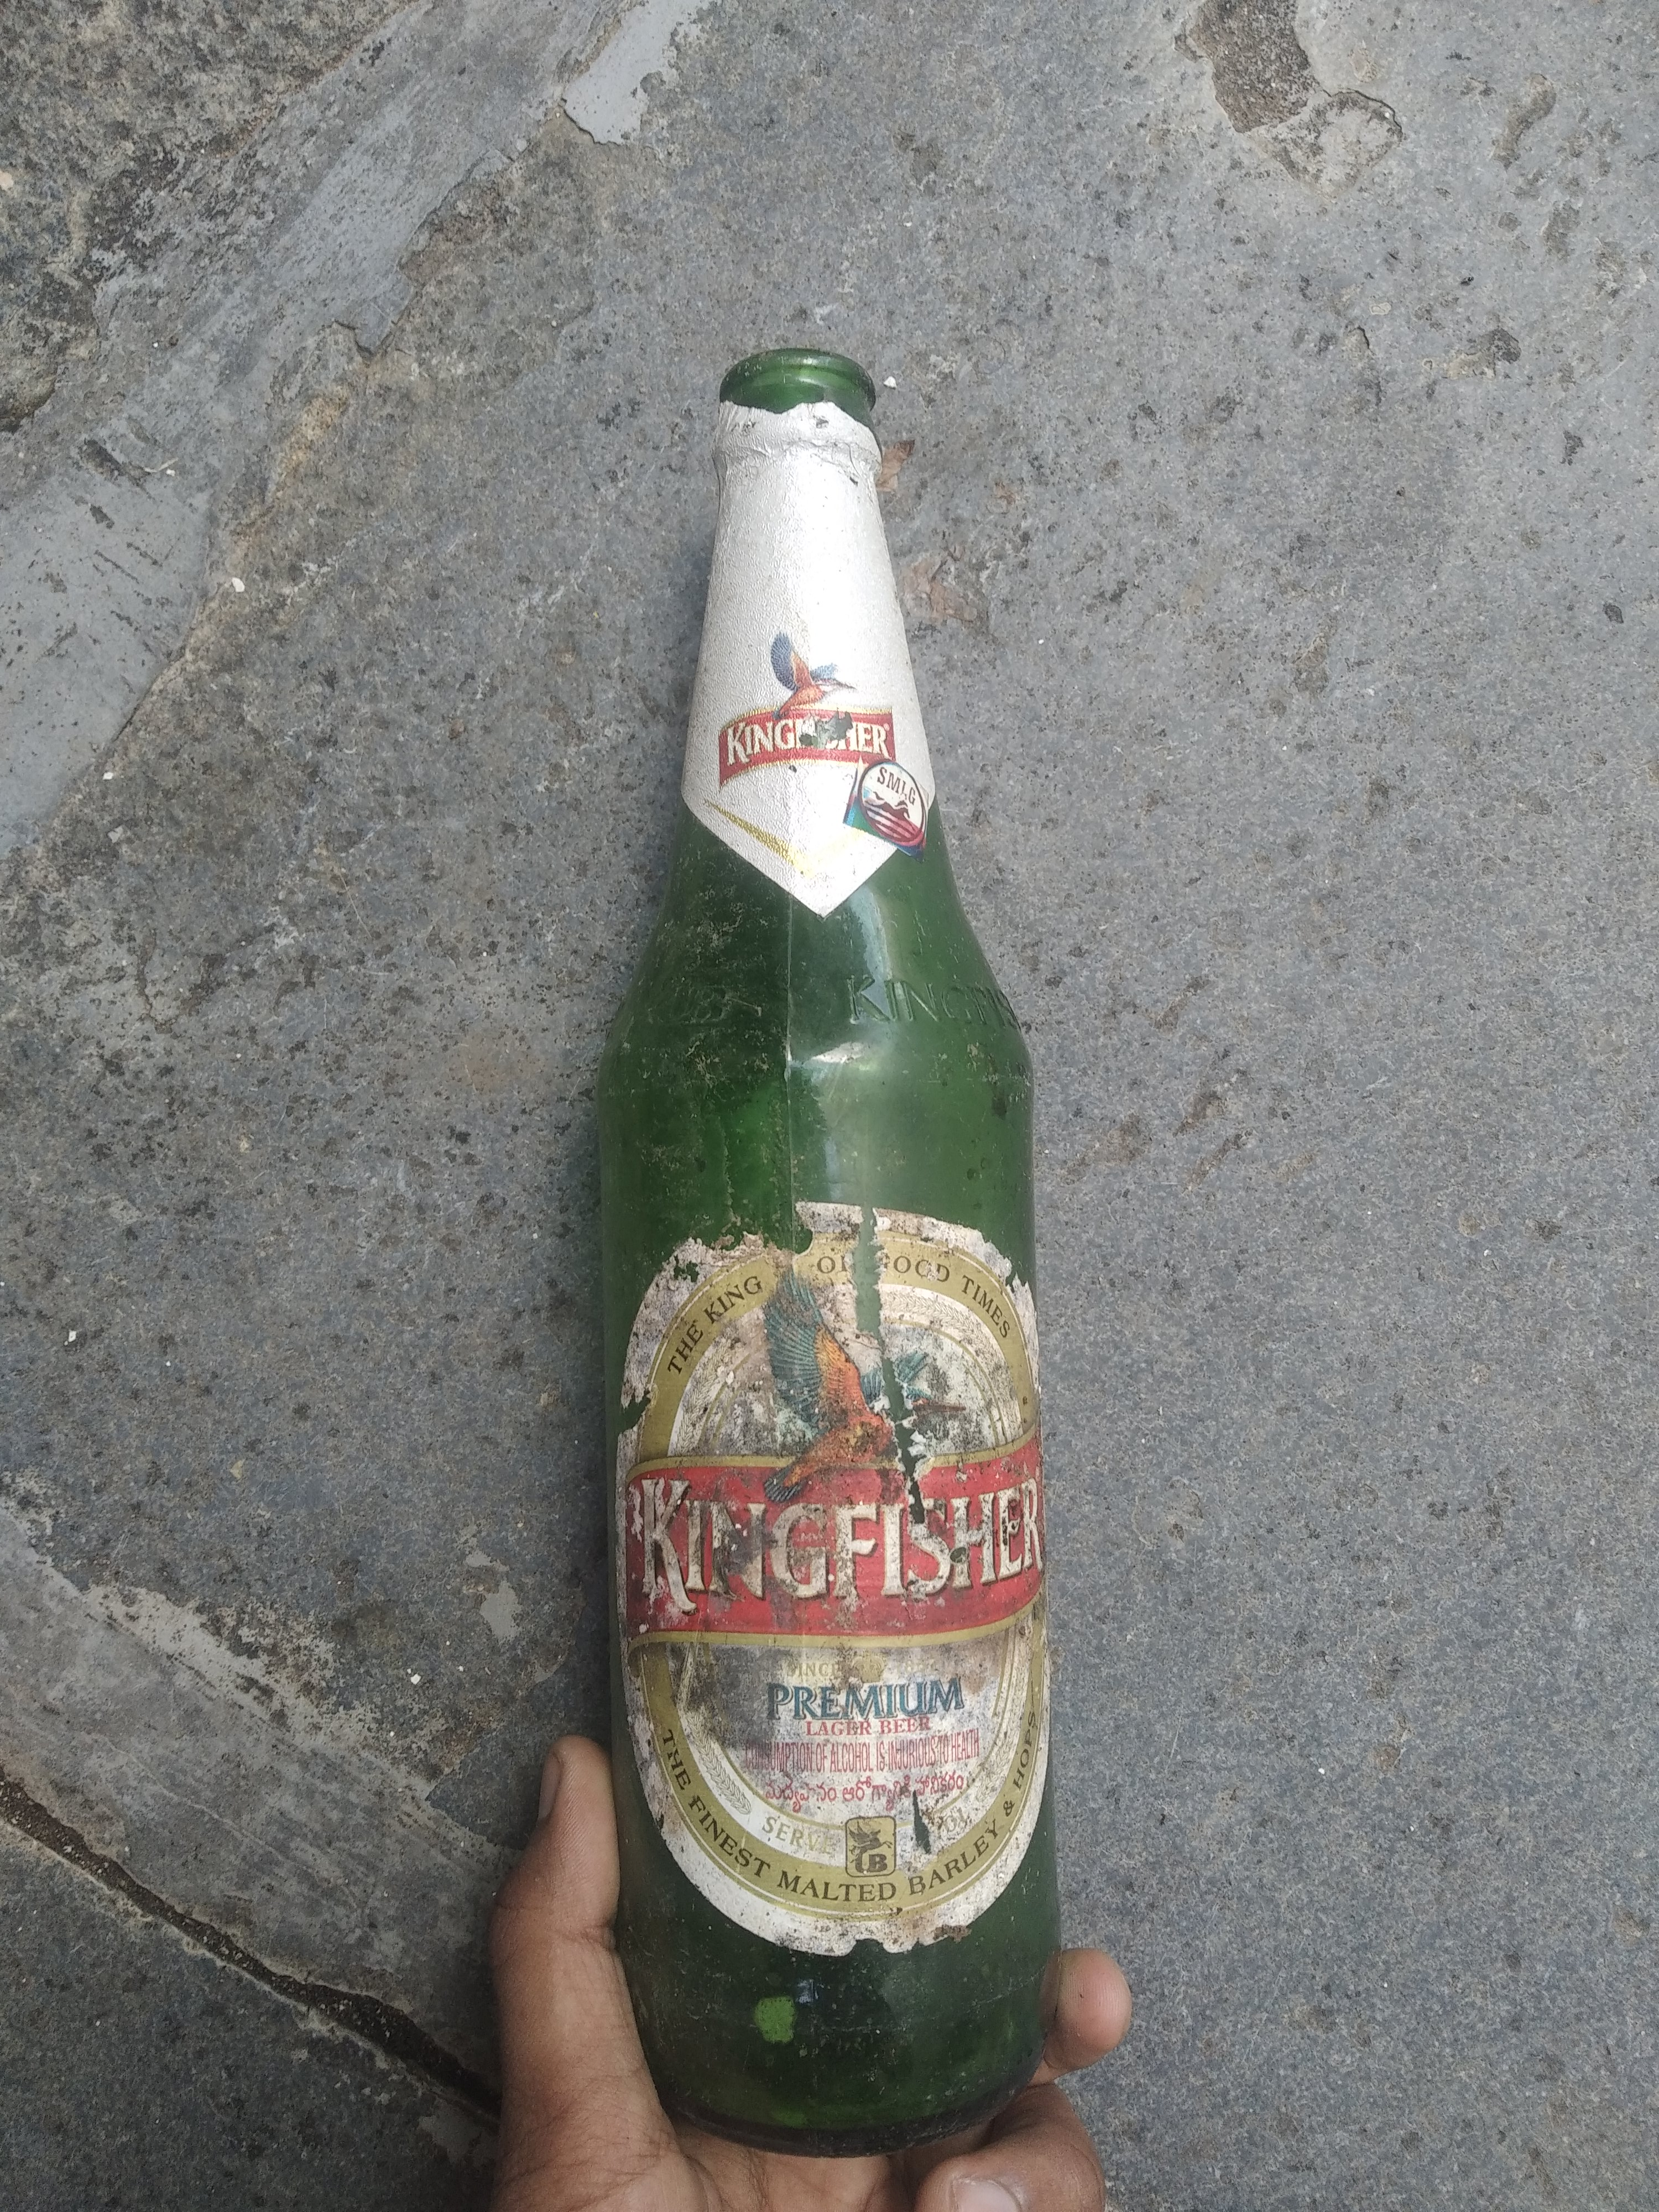glass_bottle: (568, 327, 1086, 2172)
